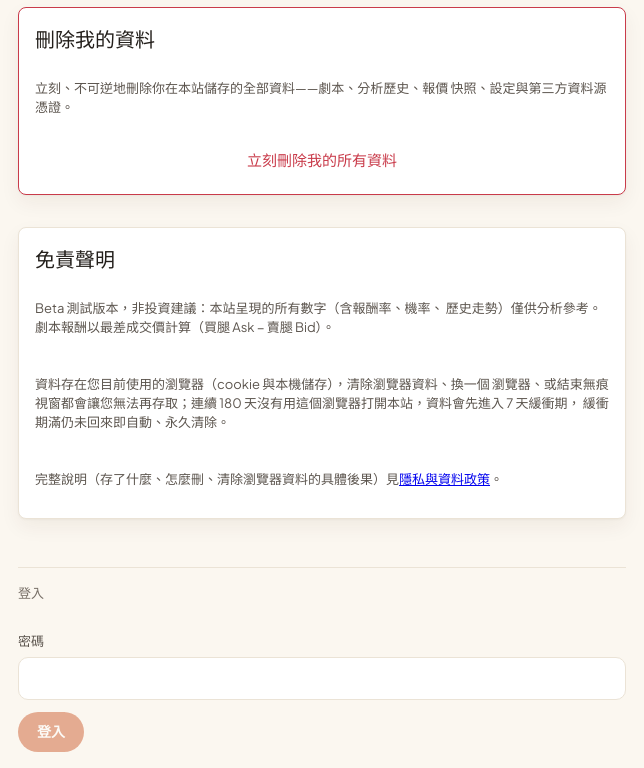
Test case: 三層角色登入（AUTH-06／#313） › 密碼絕不寫進 sessionStorage／localStorage（Security considerations）
This screenshot has width=644, height=768.
(page scrolled)
Type "correct-superadmin-secret" into the password field labelled "密碼" at [322, 678], box [18,656,626,700]
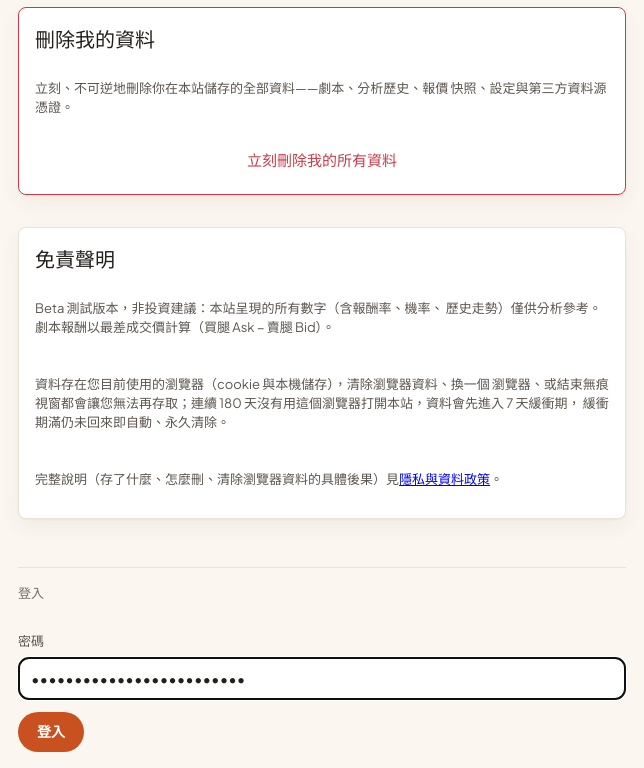
Click the button "登入" at [51, 732], box [18,712,84,752]
(page scrolled)
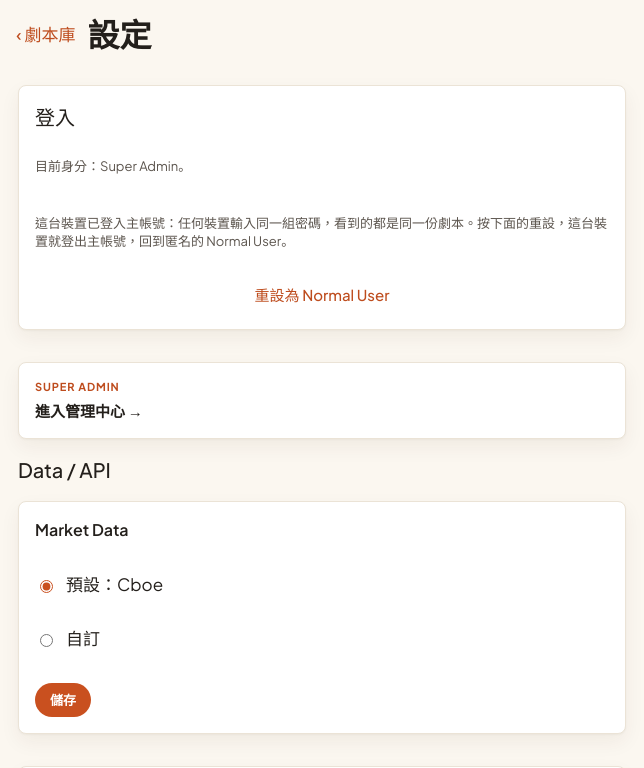
Expected: the text "目前身分：Super Admin。" is shown, [35,158,191,174]
